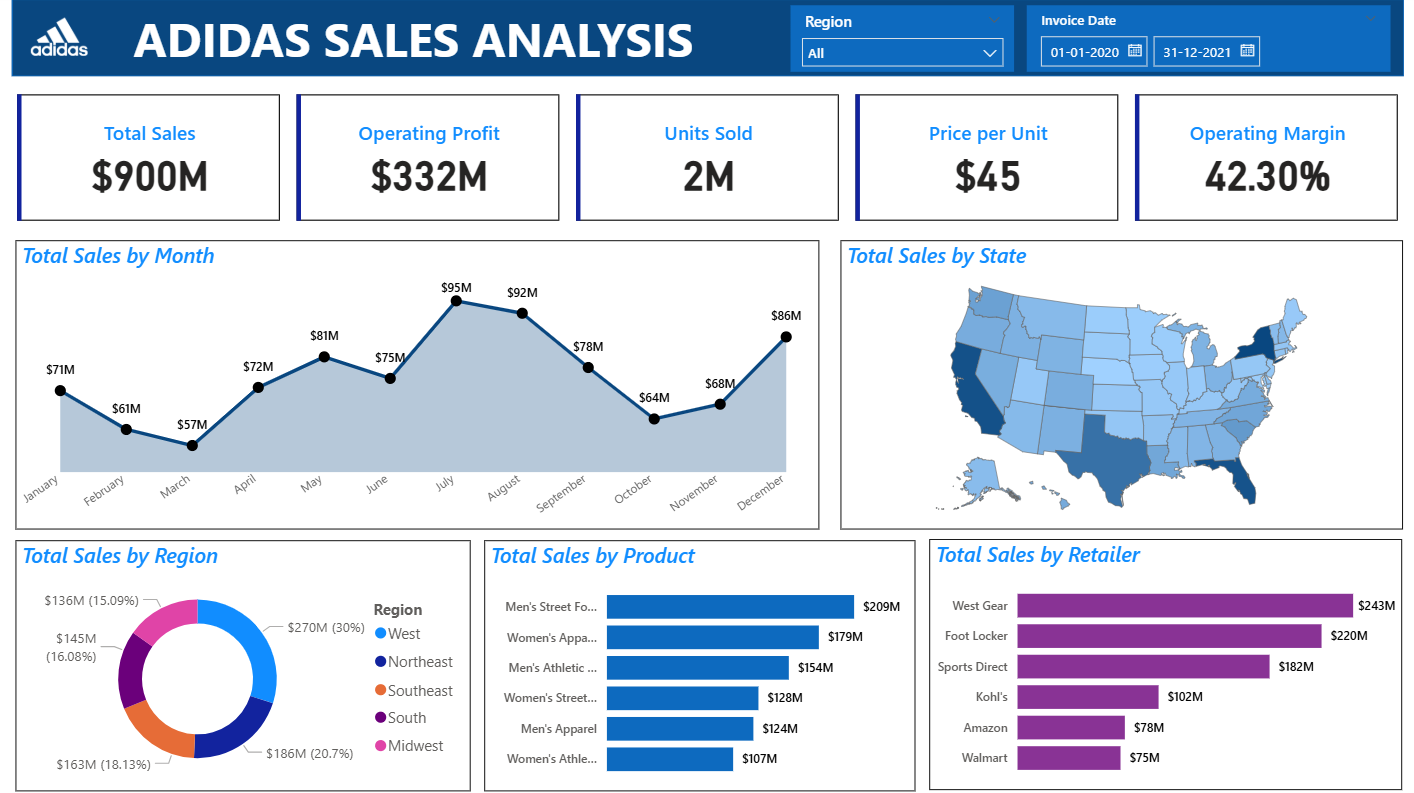

Layout of this report page (visuals, bound fields, positions):
{"tool":"powerbi","page":{"name":"Page 1","canvas":[1280,720],"ordinal":0},"visuals":[{"type":"shape","box":[12.3,0,1255.6,70],"z":0},{"type":"textbox","box":[117.4,1.2,523.4,67.3],"z":1000},{"type":"cardVisual","fields":{"Data":["Sum(Data Sales Adidas.Total Sales)","Sum(Data Sales Adidas.Operating Profit)","Sum(Data Sales Adidas.Units Sold)","Avg(Data Sales Adidas.Price per Unit)","Avg(Data Sales Adidas.Operating Margin)"]},"box":[12.2,80.7,1255,124.7],"z":2000},{"type":"areaChart","title":"Total Sales by Month","fields":{"Category":["Data Sales Adidas.Invoice Date.Variation.Date Hierarchy.Month"],"Y":["Sum(Data Sales Adidas.Total Sales)"]},"box":[15.9,217.7,725.1,260.5],"z":3000},{"type":"shapeMap","title":"Total Sales by State","fields":{"Category":["Data Sales Adidas.State"],"Value":["Sum(Data Sales Adidas.Total Sales)"]},"box":[759.4,217.7,507.5,260.5],"z":4000},{"type":"donutChart","title":"Total Sales by Region","fields":{"Category":["Data Sales Adidas.Region"],"Y":["Sum(Data Sales Adidas.Total Sales)"]},"box":[15.9,487.9,410,226],"z":5000},{"type":"barChart","title":"Total Sales by Product","fields":{"Category":["Data Sales Adidas.Product"],"Y":["Sum(Data Sales Adidas.Total Sales)"]},"box":[439,487.9,388.9,226.2],"z":6000},{"type":"barChart","title":"Total Sales by Retailer","fields":{"Y":["Sum(Data Sales Adidas.Total Sales)"],"Category":["Data Sales Adidas.Retailer"]},"box":[840.1,486.7,426.8,226.2],"z":7000},{"type":"slicer","fields":{"Values":["Data Sales Adidas.Region"]},"box":[714.1,6.1,201.8,59.9],"z":8000},{"type":"slicer","fields":{"Values":["Data Sales Adidas.Invoice Date"]},"box":[928.1,6.1,327.7,59.9],"z":9000},{"type":"image","box":[24.5,0,61.1,68.5],"z":10001}]}

Visuals, with their boxes in screenshot pixels (x1, y1, x2, y2), scaled from the page's 1280x720 canvas onto the 1414x793 screenshot:
shape: box(14, 0, 1401, 77)
textbox: box(130, 1, 708, 75)
cardVisual - Sum(Data Sales Adidas.Total Sales) x Sum(Data Sales Adidas.Operating Profit): box(13, 89, 1400, 226)
"Total Sales by Month" areaChart: box(18, 240, 819, 527)
"Total Sales by State" shapeMap: box(839, 240, 1400, 527)
"Total Sales by Region" donutChart: box(18, 537, 470, 786)
"Total Sales by Product" barChart: box(485, 537, 915, 787)
"Total Sales by Retailer" barChart: box(928, 536, 1400, 785)
slicer - Data Sales Adidas.Region: box(789, 7, 1012, 73)
slicer - Data Sales Adidas.Invoice Date: box(1025, 7, 1387, 73)
image: box(27, 0, 95, 75)
